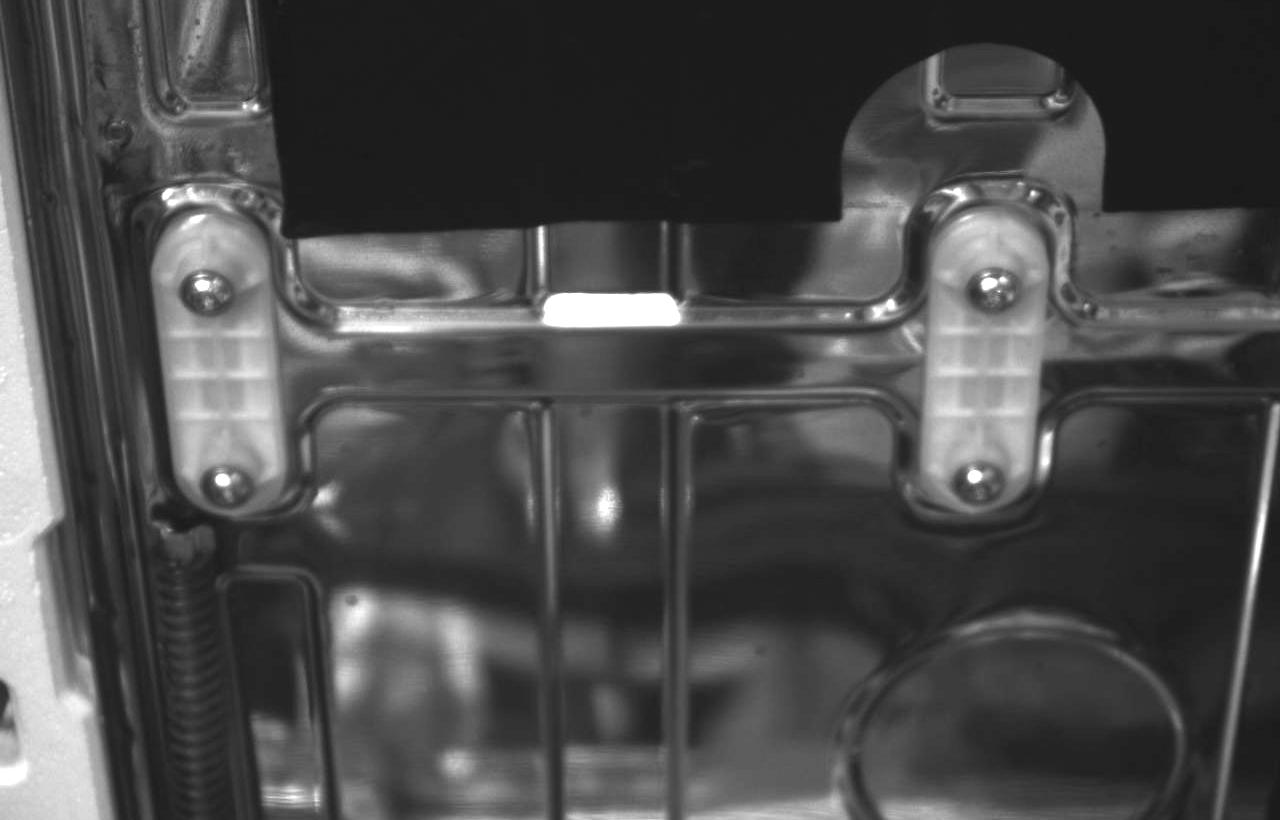vida-ok: (166, 259, 252, 337), (956, 257, 1044, 330), (185, 457, 266, 522), (945, 458, 1020, 517)
